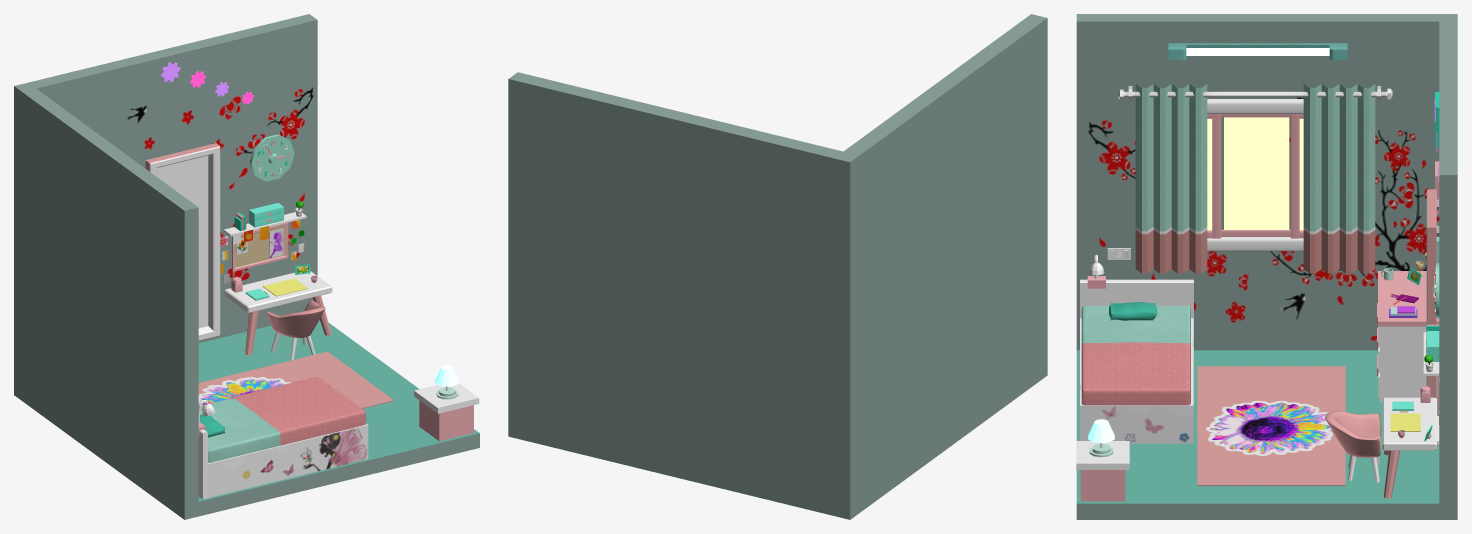
Rendered from low_poly_isometric_baby_girl_room.glb.
3 views of the same model, side by side, from view 1: azimuth 30°, elevation 25°; view 2: azimuth 150°, elevation 25°; view 3: azimuth 270°, elevation 25° (orthographic). The views are drawn at different scales.
Visible parts, largest first — view 1: Object_4, Object_2, Object_3; view 2: Object_4; view 3: Object_4, Object_2, Object_3.
Boxes of the visible parts, x1=… form: Object_4: x1=14, y1=14, x2=479, y2=519; Object_2: x1=161, y1=62, x2=479, y2=441; Object_3: x1=162, y1=63, x2=459, y2=397; Object_4: x1=508, y1=14, x2=1047, y2=519; Object_4: x1=1076, y1=14, x2=1457, y2=519; Object_2: x1=1076, y1=86, x2=1439, y2=501; Object_3: x1=1088, y1=267, x2=1435, y2=455.
Size of the model in its own units: 23.18 by 23.18 by 23.19.
Materials: 2 (2 with a texture image).
